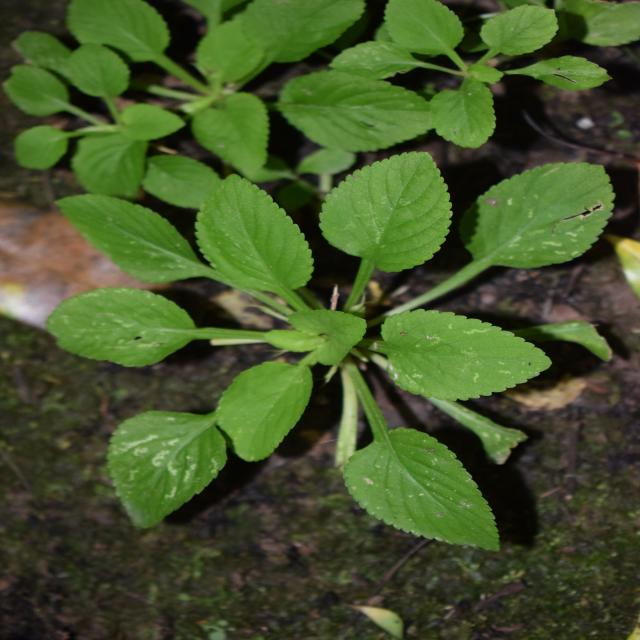Viola: (124, 63, 488, 595)
